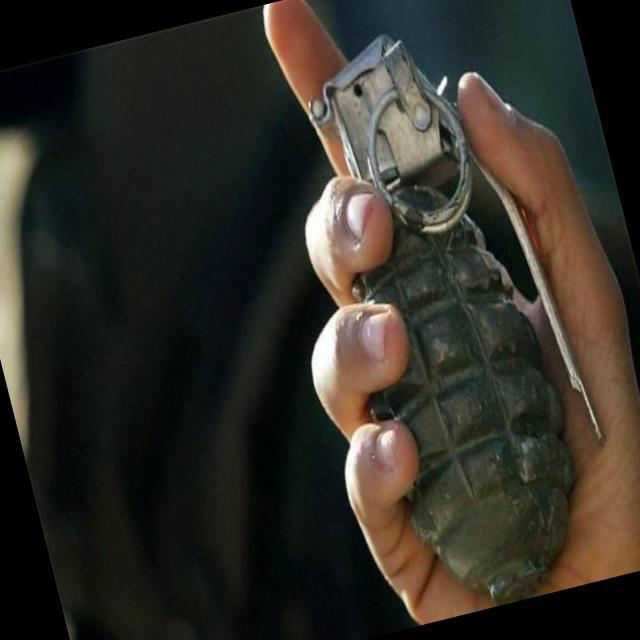grenade: (275, 0, 640, 624)
